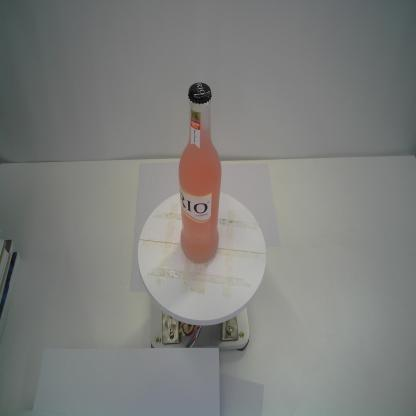Alcohol: (176, 80, 223, 266)
